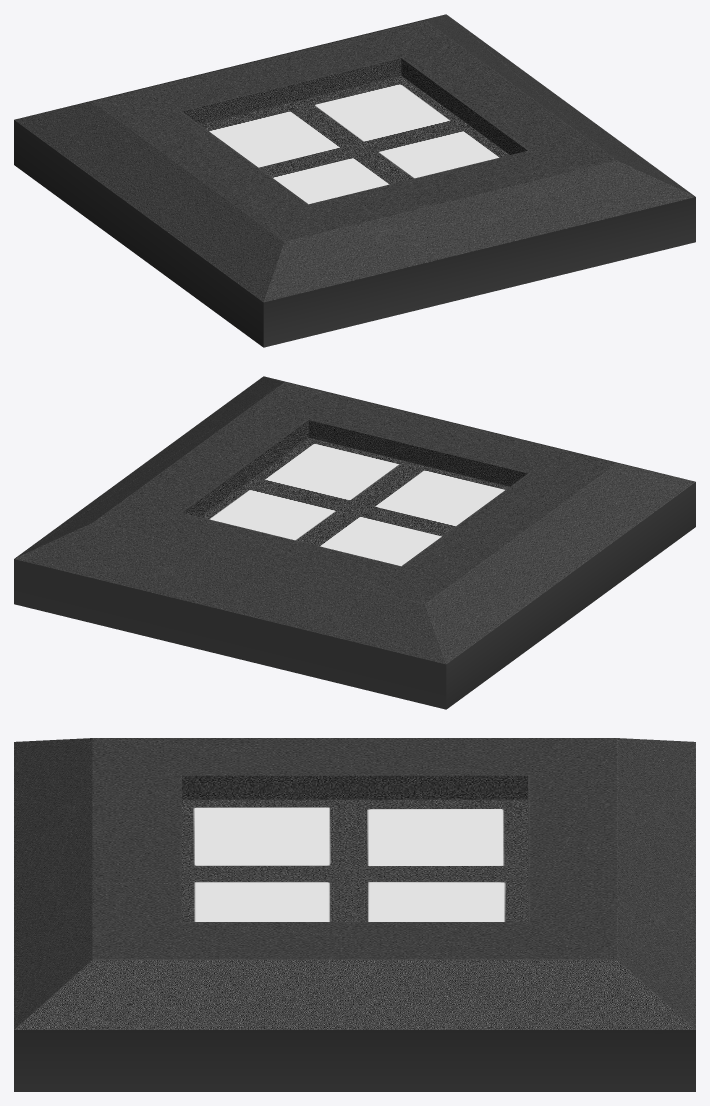
Rendered from reinforced_light.glb.
The picture shows the model from 3 angles, top to bottom: view 1: azimuth 30°, elevation 25°; view 2: azimuth 150°, elevation 25°; view 3: azimuth 270°, elevation 25°; orthographic projection. The views are drawn at different scales.
Visible parts, largest first — view 1: light_1_low; view 2: light_1_low; view 3: light_1_low.
Boxes of the visible parts, bbox=[...] form: light_1_low: bbox=[14, 14, 695, 347]; light_1_low: bbox=[14, 376, 695, 709]; light_1_low: bbox=[14, 738, 695, 1091].
Bounding box in the file's own units: 2 × 0.3203 × 2.
1 material, 1 textured.
